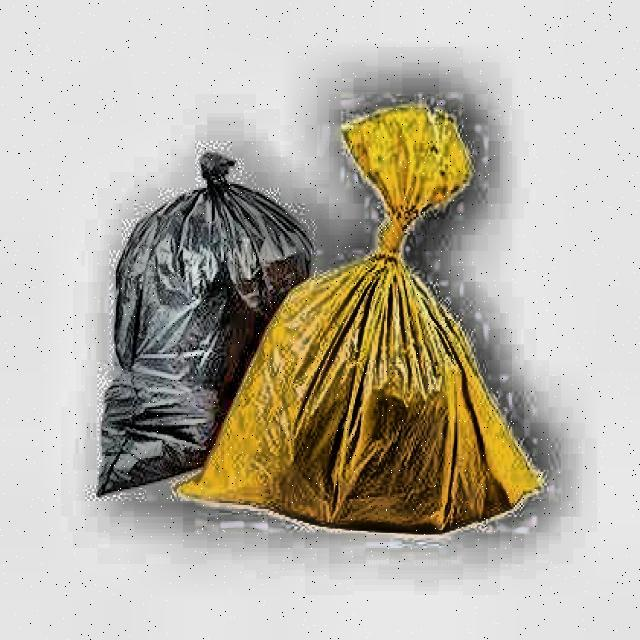Trashbag: (85, 145, 325, 508)
